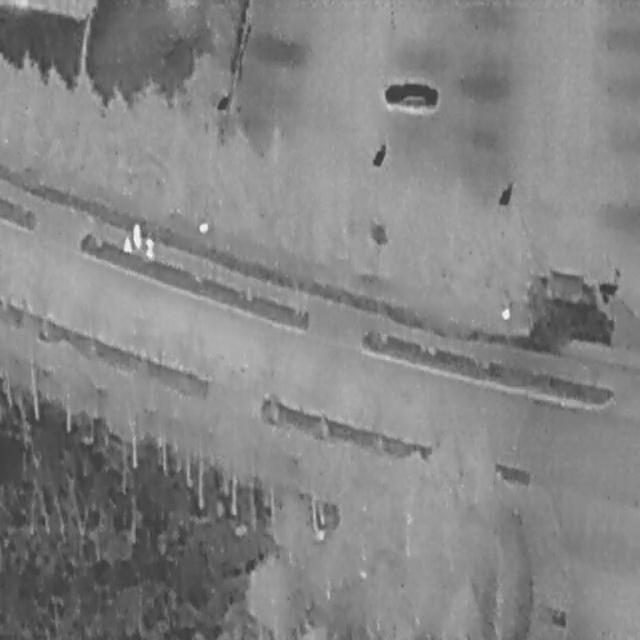Car: (525, 269, 614, 340), (384, 80, 438, 110)
Person: (145, 234, 155, 261), (131, 220, 140, 249), (121, 235, 130, 254)
